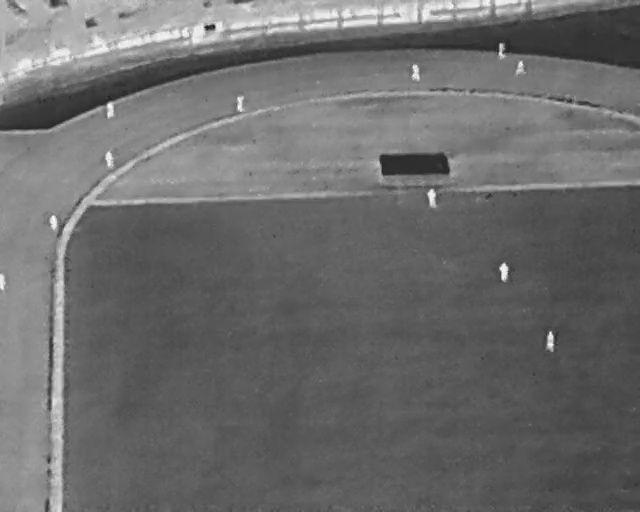Person: (499, 261, 509, 283), (427, 188, 437, 209), (546, 330, 555, 352), (498, 42, 508, 60), (516, 60, 527, 76), (106, 101, 115, 119), (236, 95, 245, 113), (105, 150, 114, 168), (411, 64, 420, 81), (49, 215, 58, 231), (0, 273, 6, 290)
